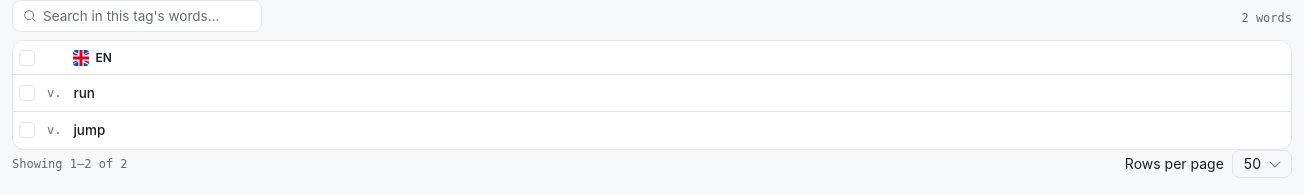
it: TagWordsTable — selecting words (for Practice) › selectable: a checkbox on every row (also a word of someone else) and one in the header
The width and height of the screenshot is (1304, 195).
Click the 2nd checkbox named "Select this word": (27, 130) [19, 122, 35, 138]
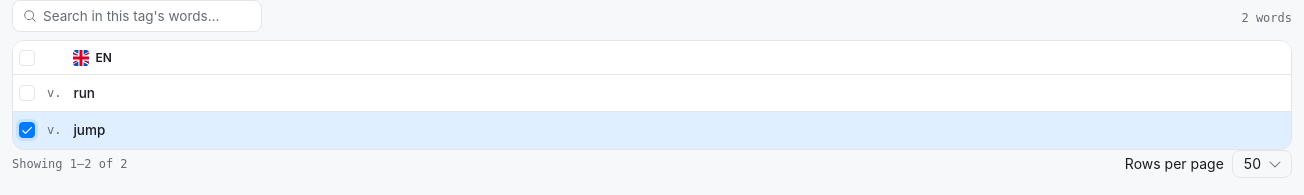
Expected: the 1st checkbox named "Select this word" is not checked, [19, 85, 35, 101]
Now the 2nd checkbox named "Select this word" is checked, box [19, 122, 35, 138]
Click the checkbox named "Select all rows": (27, 58) [19, 50, 35, 66]
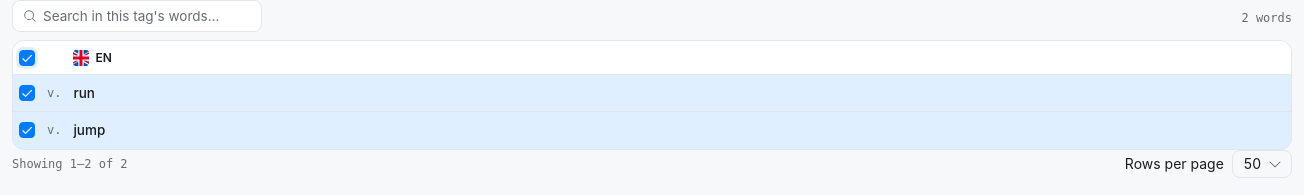
Now the 1st checkbox named "Select this word" is checked, box [19, 85, 35, 101]
